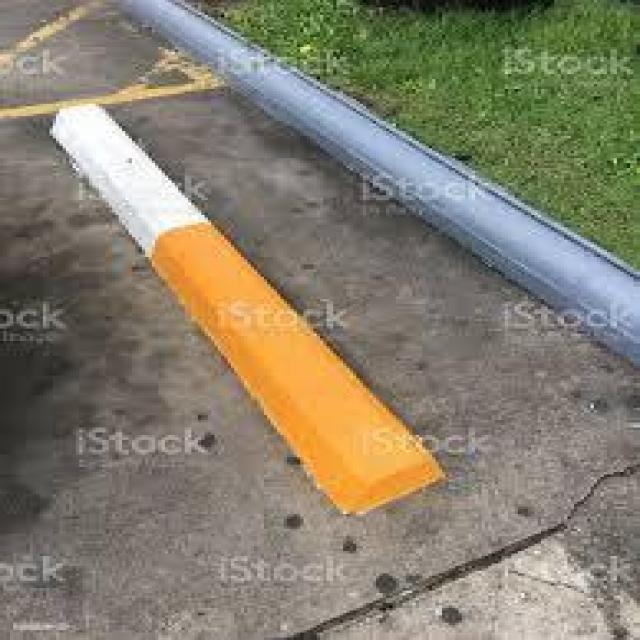bump: (29, 79, 464, 521), (296, 83, 523, 269)
